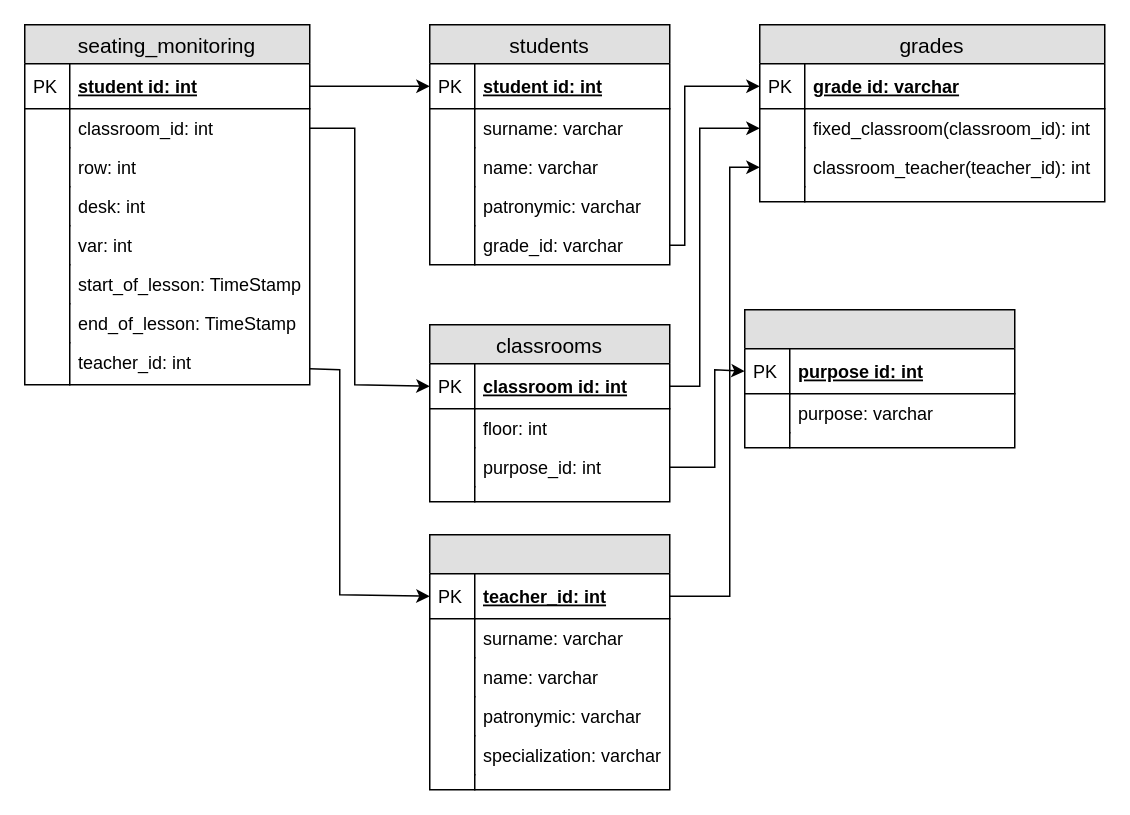
Some shapes in this 1130 by 815 pixel diagram are drawn without their labels. Here are the shapes that lost their labels. From the top down, the box of each, then its label:
(743, 308, 1015, 448): classrooms_description
(428, 533, 670, 790): teachers
